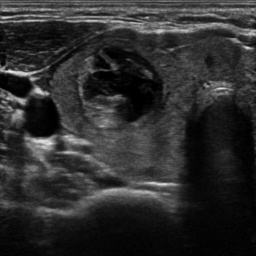mass: (54, 41, 161, 128)
